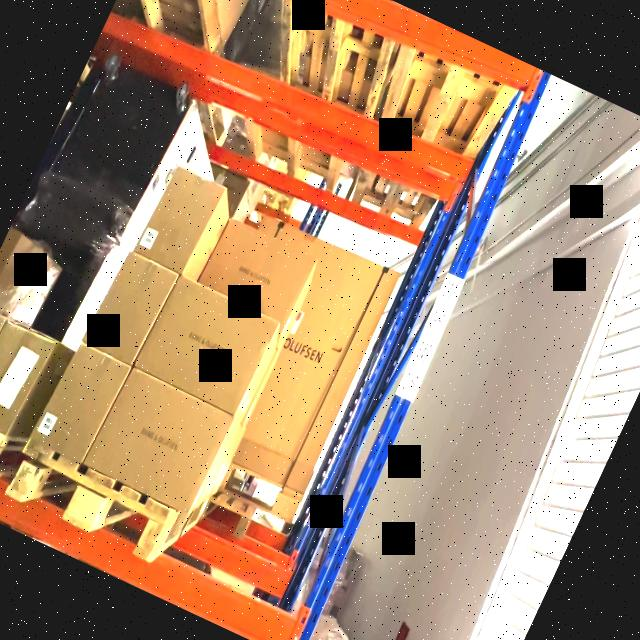box: (85, 366, 235, 516), (136, 275, 278, 412), (197, 216, 320, 323), (29, 341, 132, 461), (82, 254, 183, 366), (132, 165, 228, 273), (0, 318, 55, 438)
